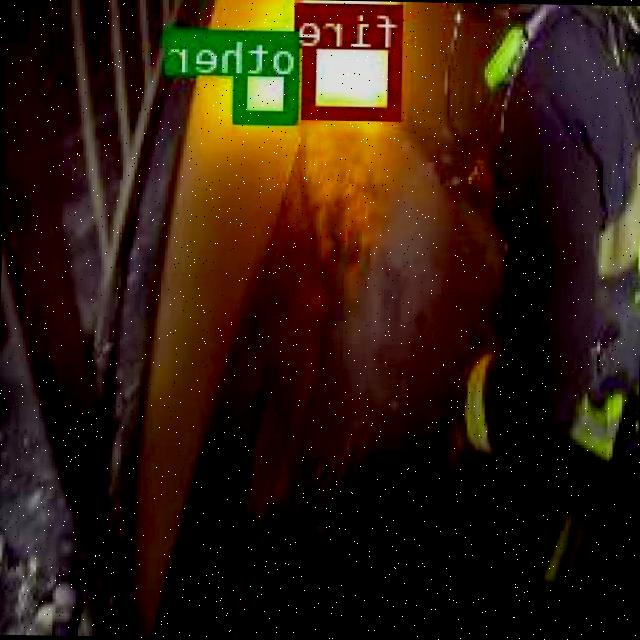fire: (306, 0, 404, 116)
